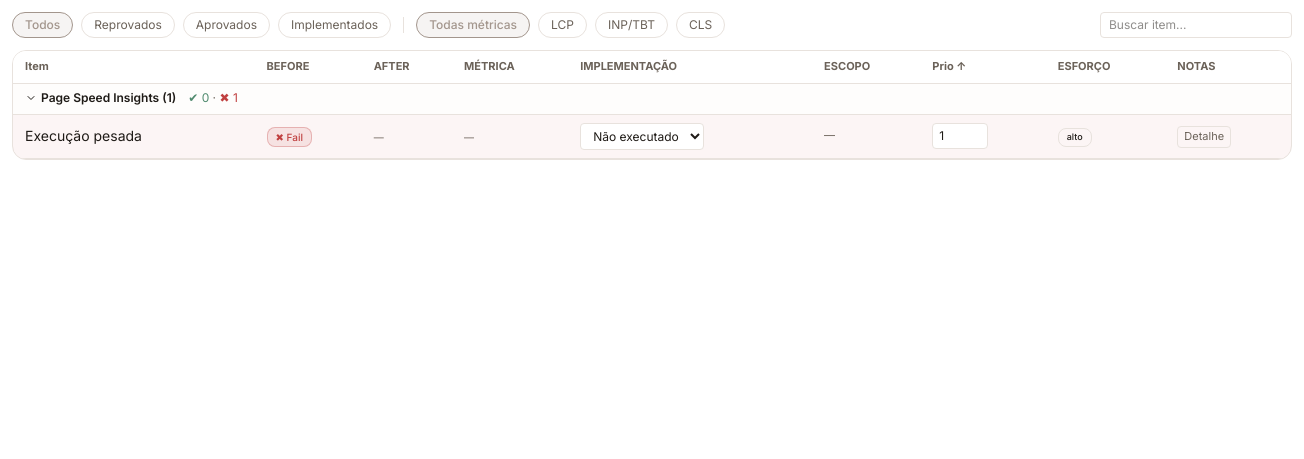
Test case: ChecklistGrid › painel Detalhe mostra Elementos com falha quando há evidências
Click the button with aria-label "detalhe de Execução pesada". click: [1204, 137]
box: x1=1177 y1=126 x2=1231 y2=148
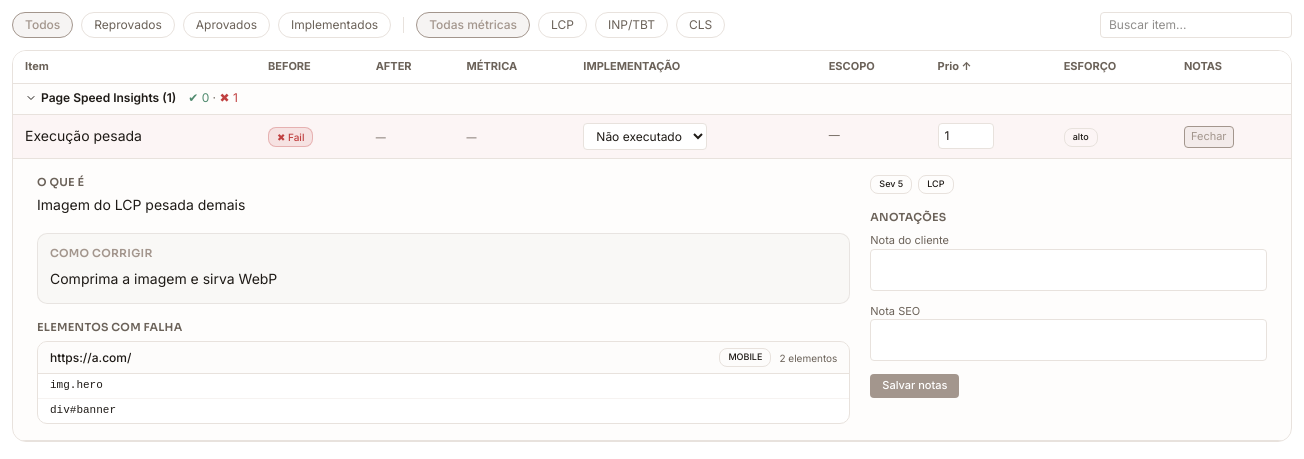
Expected: the heading "Elementos com falha" is shown, x1=37 y1=320 x2=182 y2=334
Expected: the text "img.hero" is shown, x1=50 y1=379 x2=103 y2=391
Expected: the text "div#banner" is shown, x1=50 y1=404 x2=116 y2=416
